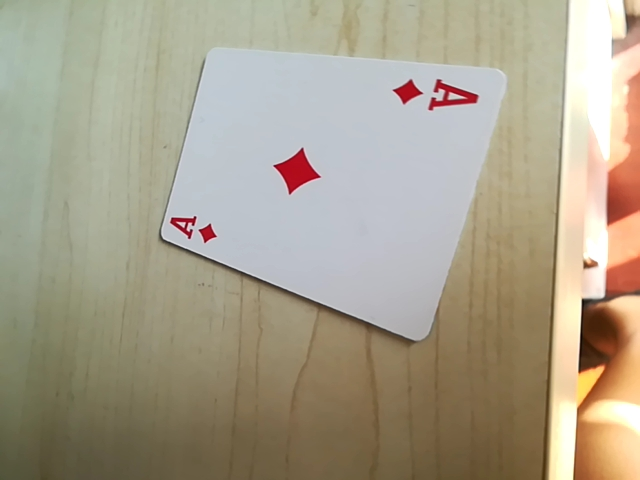fk a: (392, 71, 483, 119), (160, 209, 221, 247)
